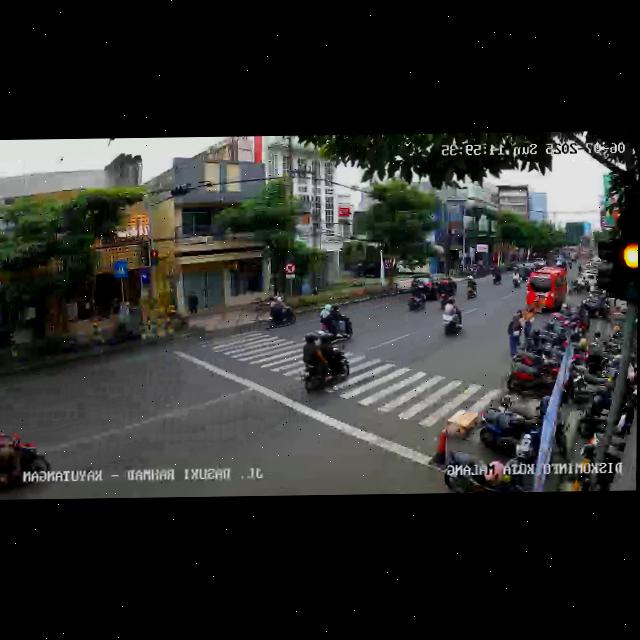car: (0, 428, 51, 499), (526, 268, 567, 312), (411, 272, 457, 299)
motorcycle: (298, 333, 351, 396), (319, 301, 354, 343), (267, 295, 296, 331), (441, 298, 464, 338), (408, 281, 428, 313), (465, 274, 479, 302), (512, 266, 523, 287), (491, 268, 502, 286)
person: (507, 313, 522, 359), (513, 310, 524, 351), (524, 306, 535, 339)
